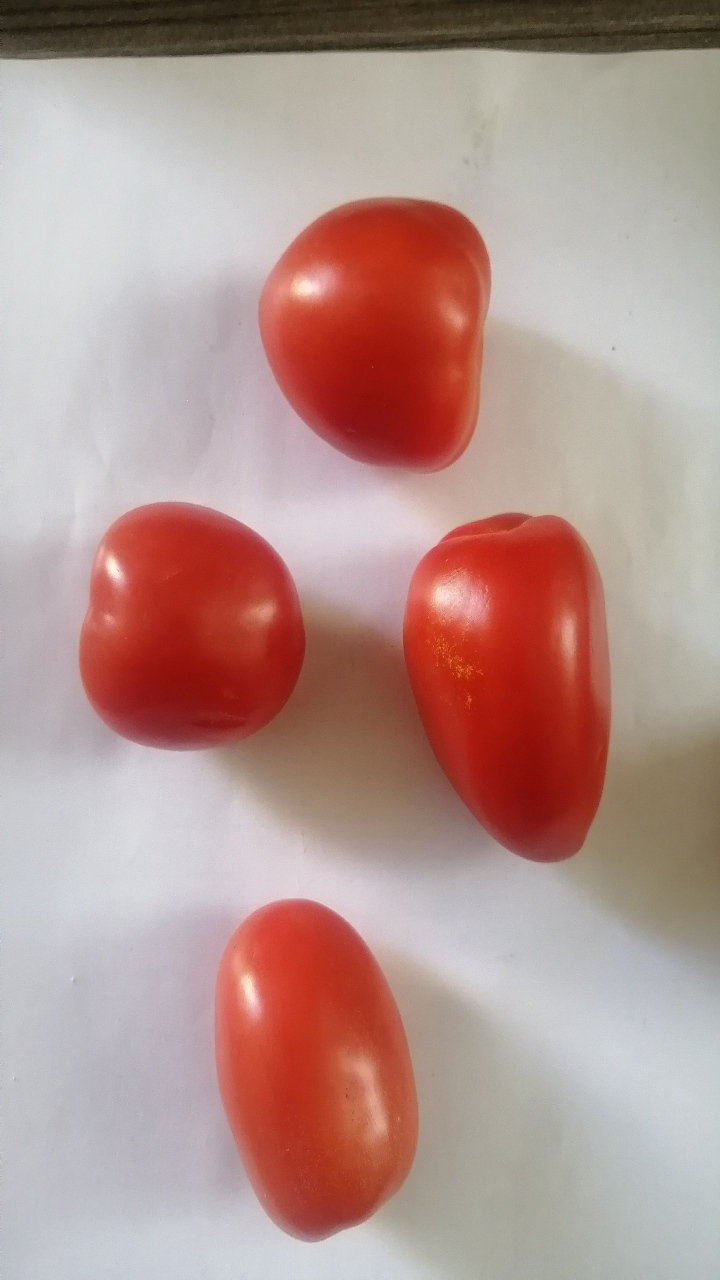tomateRojo: (198, 875, 437, 1260), (392, 502, 621, 877), (246, 182, 512, 488), (63, 475, 308, 768)
